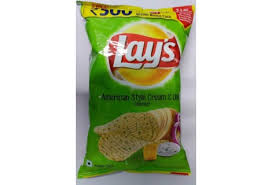lays-med: (83, 3, 189, 176)
